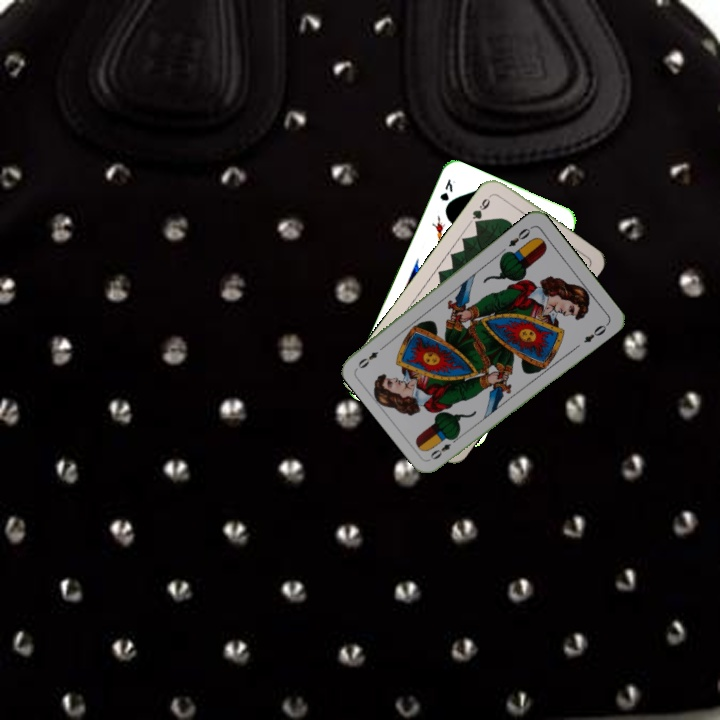EO: (426, 432, 461, 462), (504, 222, 535, 249)
G9: (468, 190, 495, 228)
GK: (436, 175, 458, 204)
